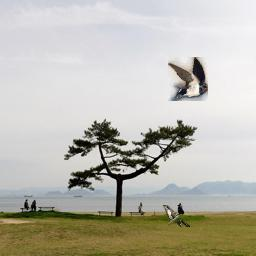Cuckoo: (164, 205, 191, 227)
Swallow: (168, 57, 208, 101)
